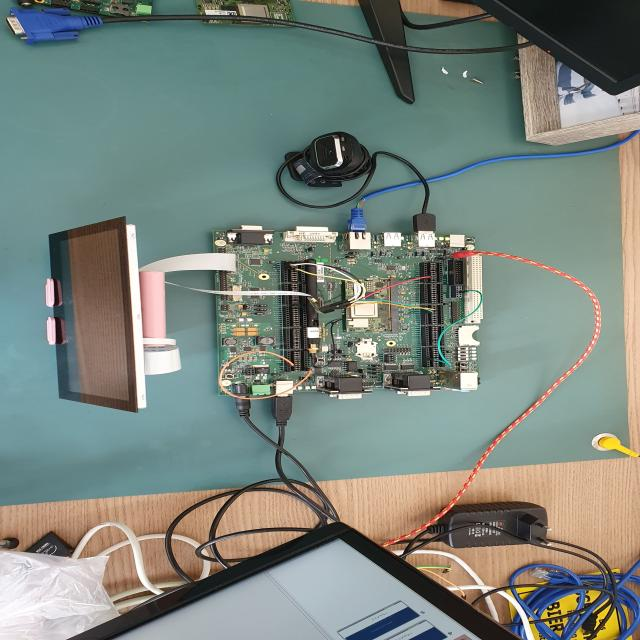som: (342, 279, 406, 335), (23, 1, 157, 27), (196, 1, 311, 30)
